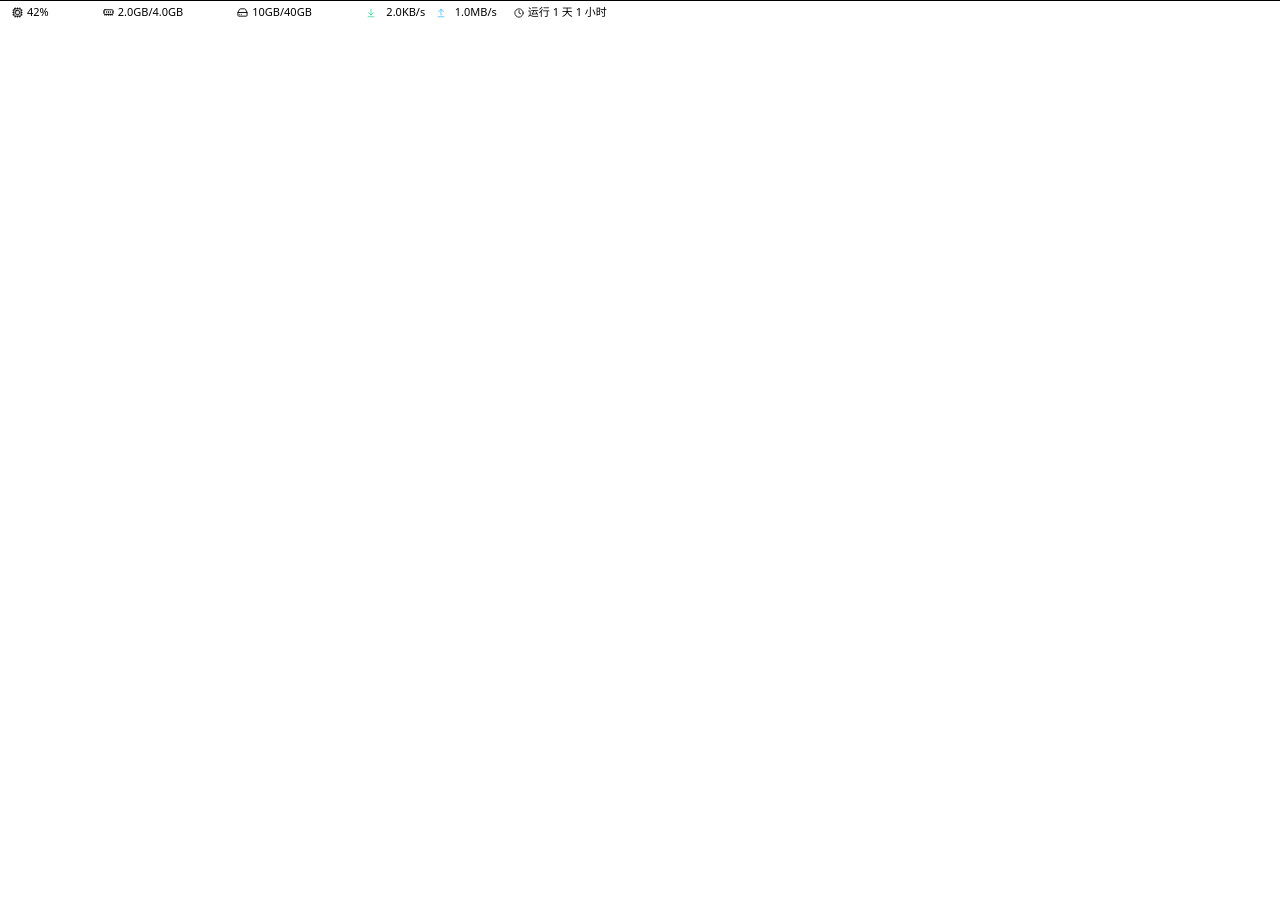
Test case: ServerStatsBar 数据接线（固定数据） › CPU 详情：核心数、每核数值、负载
Step 1. Hover over the button titled "CPU（悬停看每个核心）" → (51,13), box [12, 4, 91, 21]
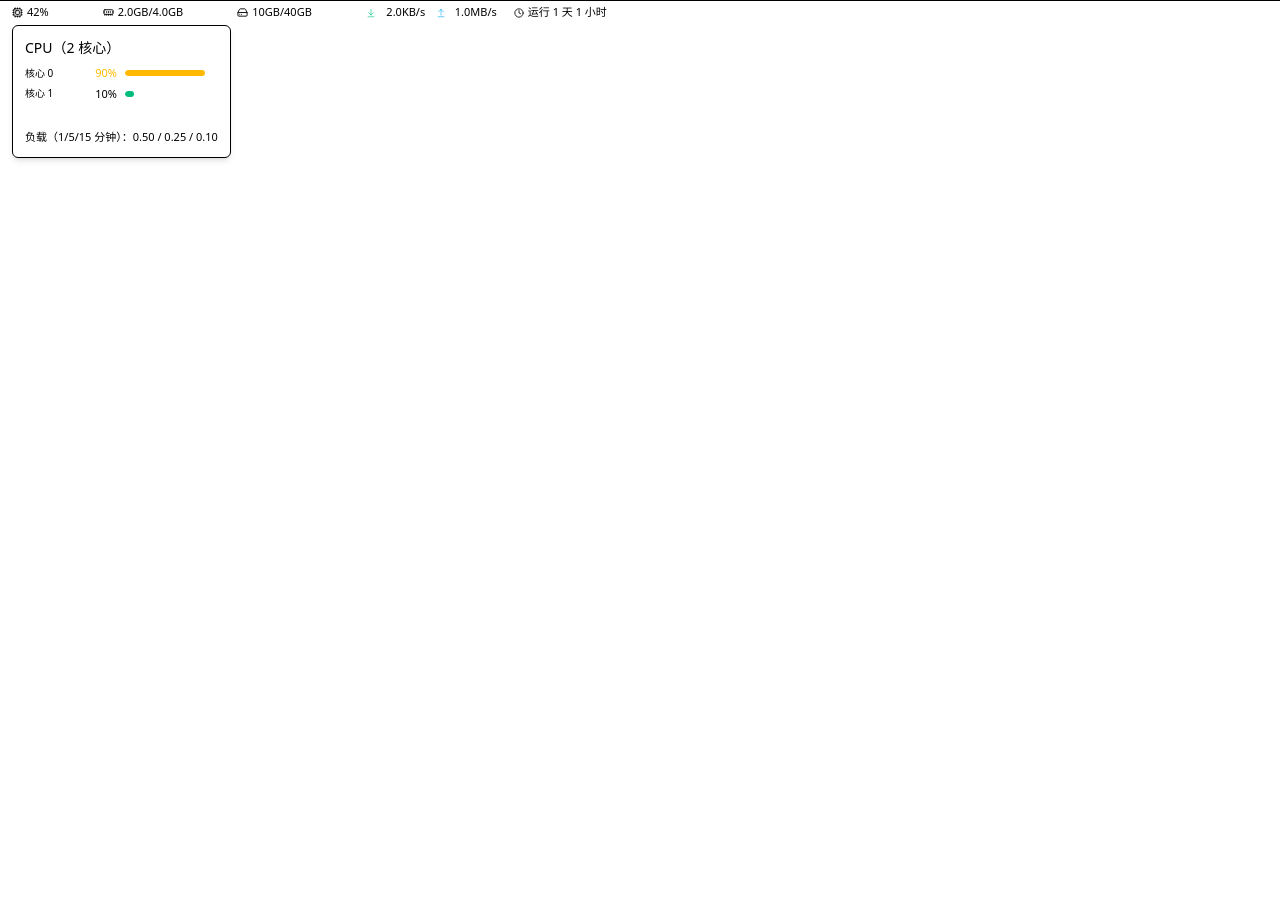
Expected: the text "CPU（2 核心）" is shown, [25, 38, 120, 57]
Expected: the text "核心 0" is shown, [25, 66, 53, 80]
Expected: the text "90%" is shown, [95, 66, 117, 80]
